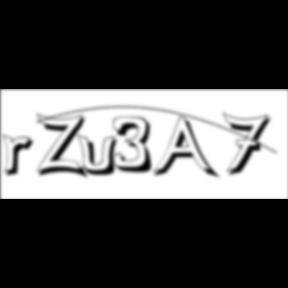3: (113, 116, 159, 176)
7: (222, 111, 278, 179)
A: (153, 116, 222, 182)
Z: (36, 112, 92, 181)
r: (3, 134, 41, 180)
u: (77, 132, 125, 178)
